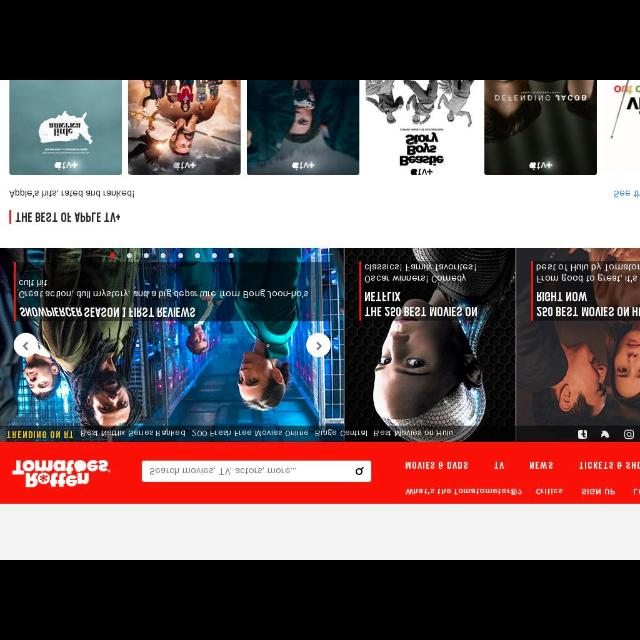icon: (356, 465, 364, 475)
image: (1, 248, 640, 442), (246, 81, 360, 175), (127, 81, 240, 175), (9, 81, 121, 175), (366, 81, 478, 175), (485, 81, 597, 175), (12, 459, 112, 488), (605, 81, 639, 142)
input: (142, 461, 372, 482)
pageindicator: (109, 252, 235, 258)
text: (150, 466, 296, 476), (405, 486, 523, 496), (15, 212, 120, 222), (9, 190, 135, 198), (579, 460, 639, 470), (405, 462, 469, 468), (582, 487, 616, 495), (530, 460, 554, 470), (613, 190, 639, 198), (536, 488, 562, 494), (494, 462, 506, 468), (633, 488, 639, 496)
toolbar: (1, 442, 639, 502)
